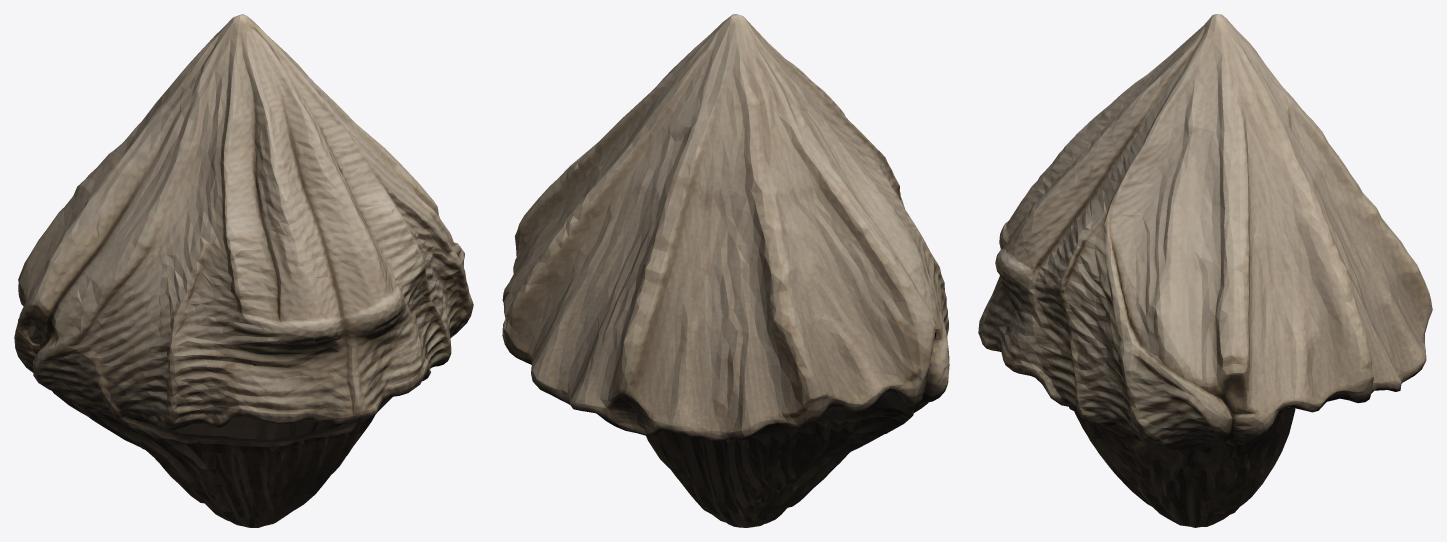
3 views of the same model, side by side, from view 1: azimuth 30°, elevation 25°; view 2: azimuth 150°, elevation 25°; view 3: azimuth 270°, elevation 25° (orthographic). The views are drawn at different scales.
Parts seen in each view (by area): view 1: world; view 2: world; view 3: world.
Part boxes in pixels (left/top/right/bottom): world: left=14, top=14, right=473, bottom=527; world: left=502, top=14, right=949, bottom=527; world: left=978, top=14, right=1432, bottom=527.
Size of the model in its own units: 0.8637 by 0.9802 by 0.7949.
1 material, 1 textured.
